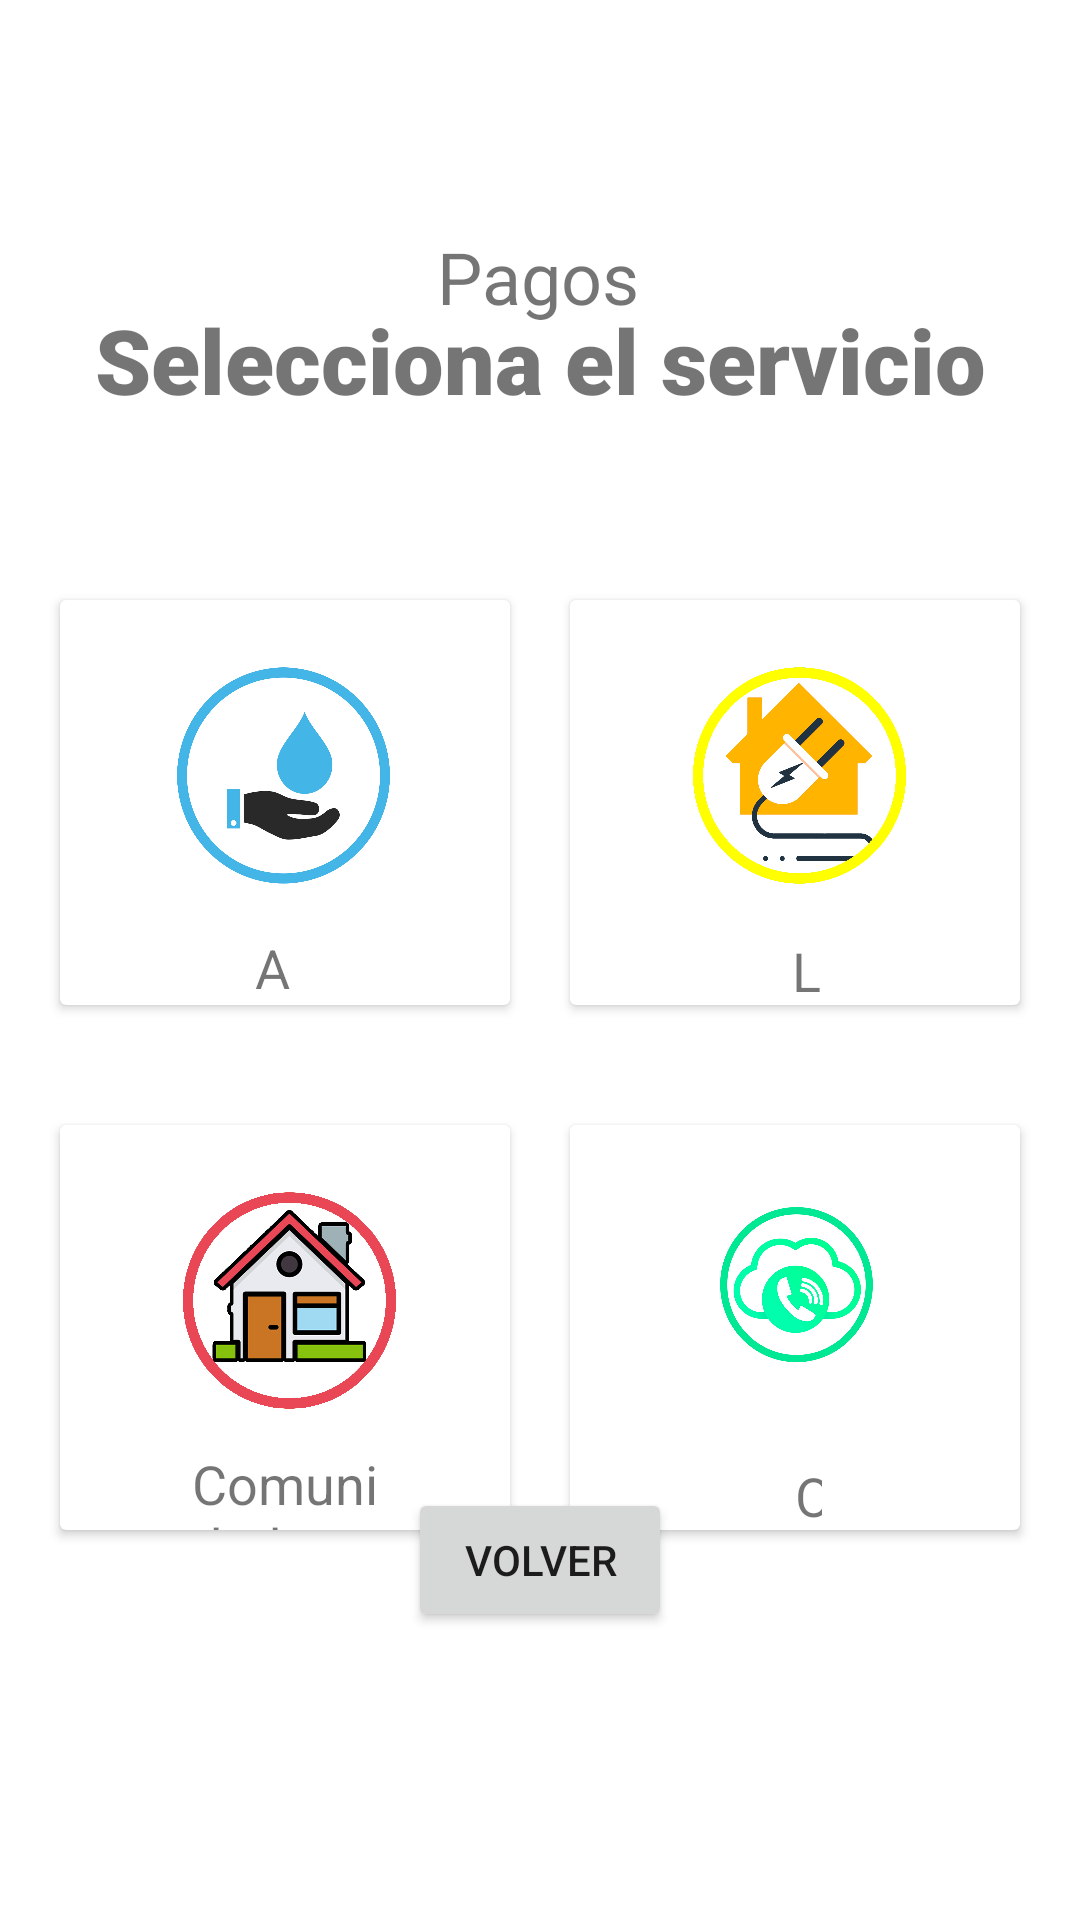

Locate icon controls on the screen. Image size 1080 x 1920, boxes as (x1, y1, x2, y2).
imagenpagosluz: (693, 667, 906, 884)
